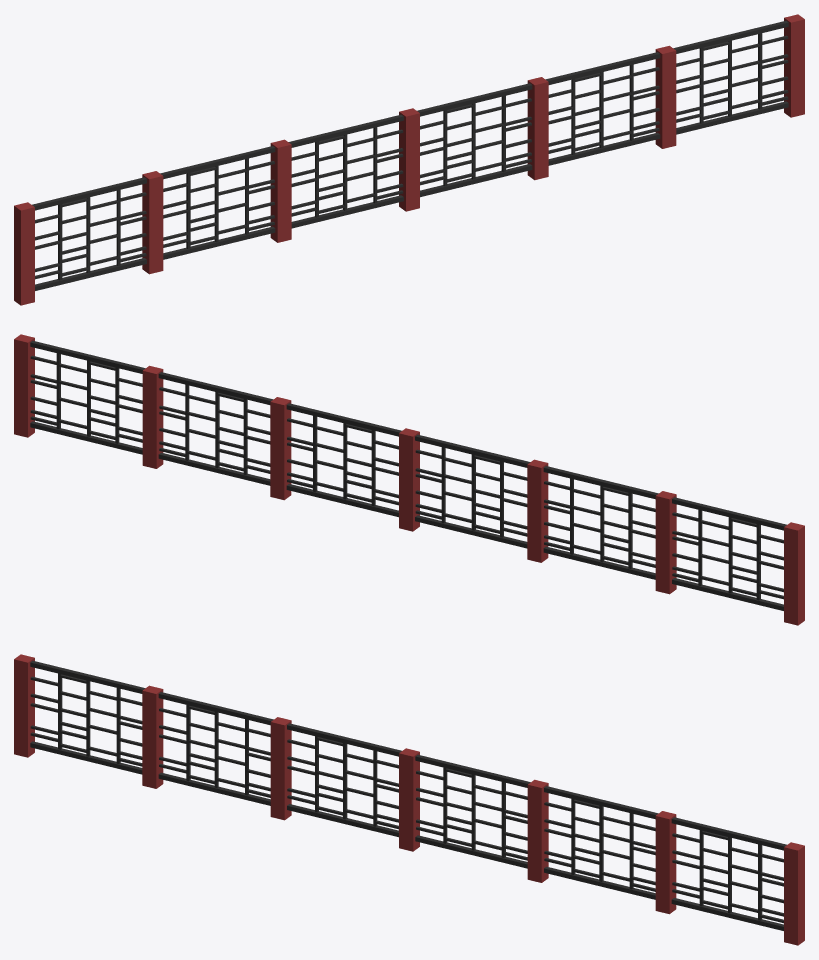
The model's file is Fence.gltf.
3 views of the same model, one above another, from view 1: azimuth 30°, elevation 25°; view 2: azimuth 150°, elevation 25°; view 3: azimuth 330°, elevation 25° (orthographic).
Parts seen in each view (by area): view 1: node-0; view 2: node-0; view 3: node-0.
Part boxes in pixels (bbox=[...]): node-0: bbox=[14, 14, 804, 305]; node-0: bbox=[14, 334, 804, 625]; node-0: bbox=[14, 654, 804, 945].
Bounding box in the file's own units: 24103 × 2791 × 364.
